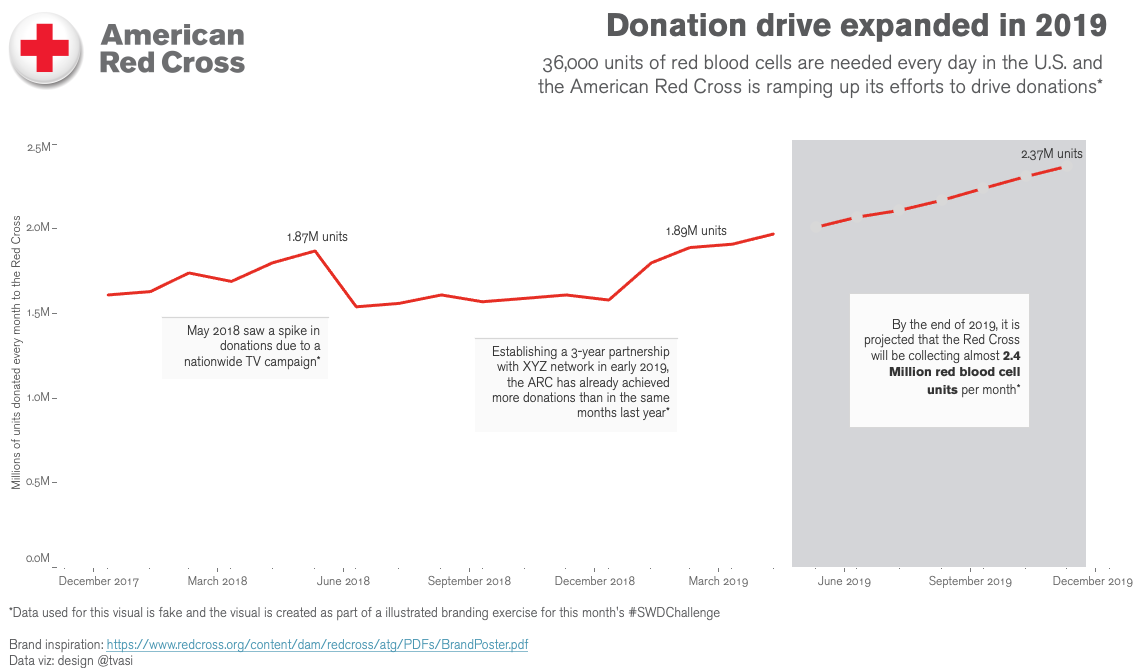

Layout of this report page (visuals, bound fields, positions):
{"tool":"tableau","page":{"name":"Red Cross dashboard - SWD June 2019","canvas":[1000,1000],"units":"permille","ordinal":0},"visuals":[{"type":"worksheet","title":"Red Cross","mark":"Line","rows":["Forecast"],"cols":["Calculation_386113367515209728"],"box":[6.7,11.7,986.6,976.6]}]}

Visuals, with their boxes on the dashboard's canvas, which has no fixed pixel size, in thousandths of its width and height (x1, y1, x2, y2). These are canvas units, not pixel positions in the 1136x672 screenshot, which may show the page scaled, cropped or inside an application window:
"Red Cross" worksheet (Line marks): 7:12:993:988
